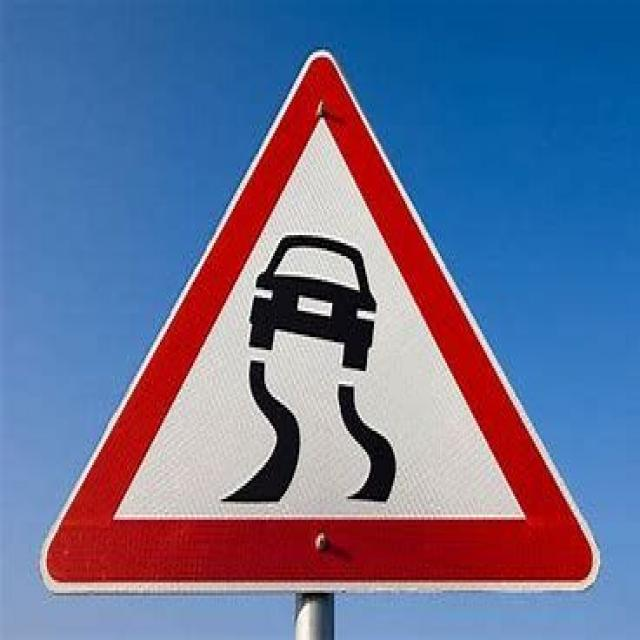SLIPPERY_ROAD: (37, 44, 600, 590)
